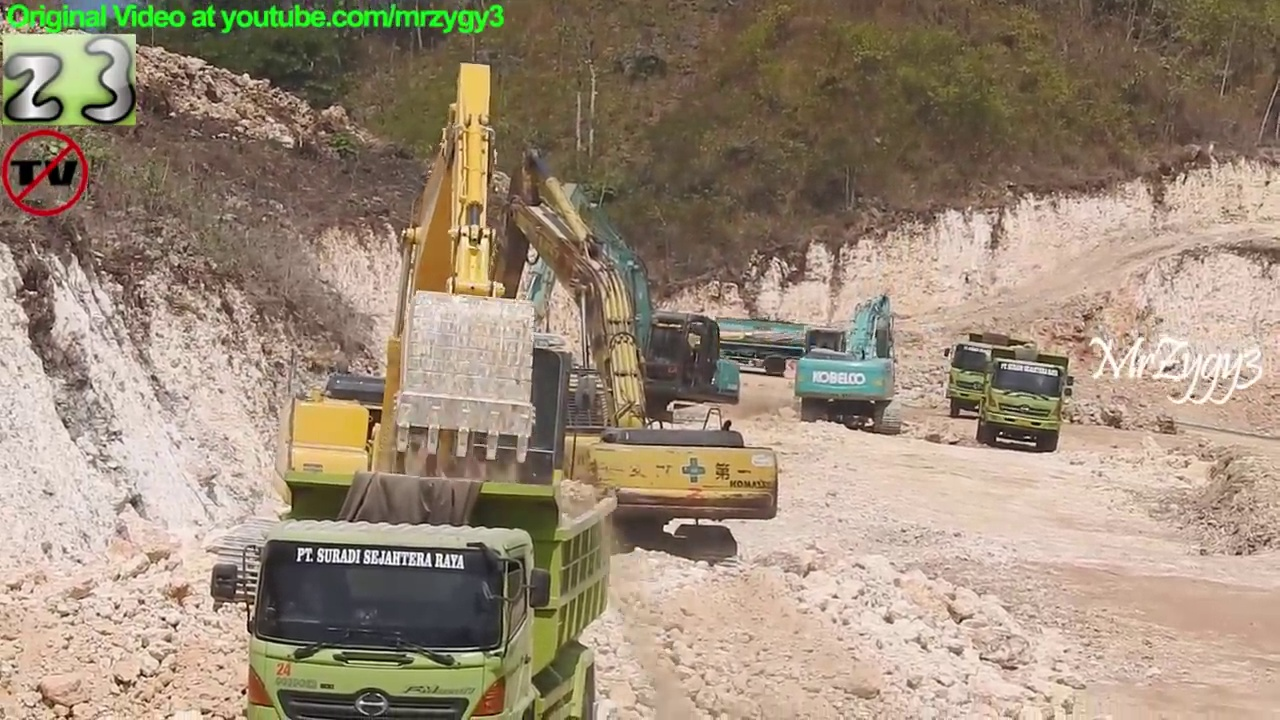excavator: (210, 54, 602, 637), (346, 140, 782, 575), (458, 172, 746, 447), (789, 289, 913, 443)
truck: (206, 462, 627, 720), (678, 302, 850, 393), (972, 340, 1079, 457), (938, 327, 1041, 424)
